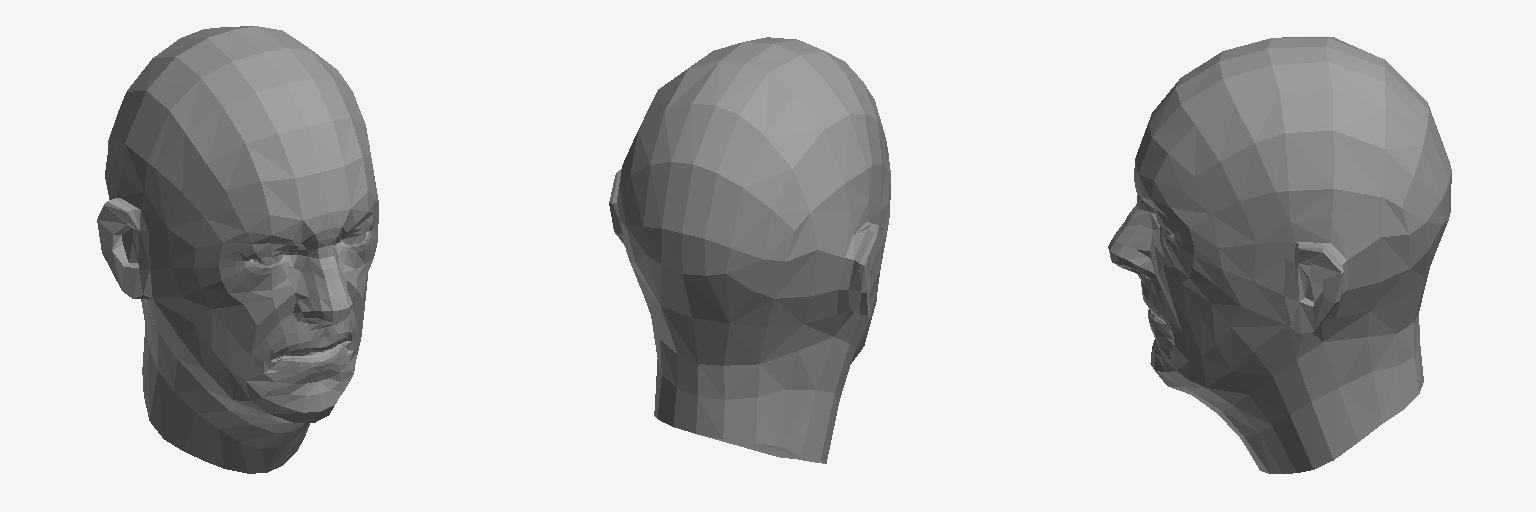
Rendered from INGAME_BASE.OBJ.
The picture shows the model from 3 angles: view 1: azimuth 30°, elevation 25°; view 2: azimuth 150°, elevation 25°; view 3: azimuth 270°, elevation 25°; orthographic projection.
Parts seen in each view (by area): view 1: Group1.001; view 2: Group1.001; view 3: Group1.001.
Boxes of the visible parts, x1=… form: Group1.001: x1=97, y1=26, x2=378, y2=473; Group1.001: x1=609, y1=37, x2=890, y2=463; Group1.001: x1=1108, y1=37, x2=1451, y2=473.
Bounding box in the file's own units: 1.39 × 2.13 × 1.58.